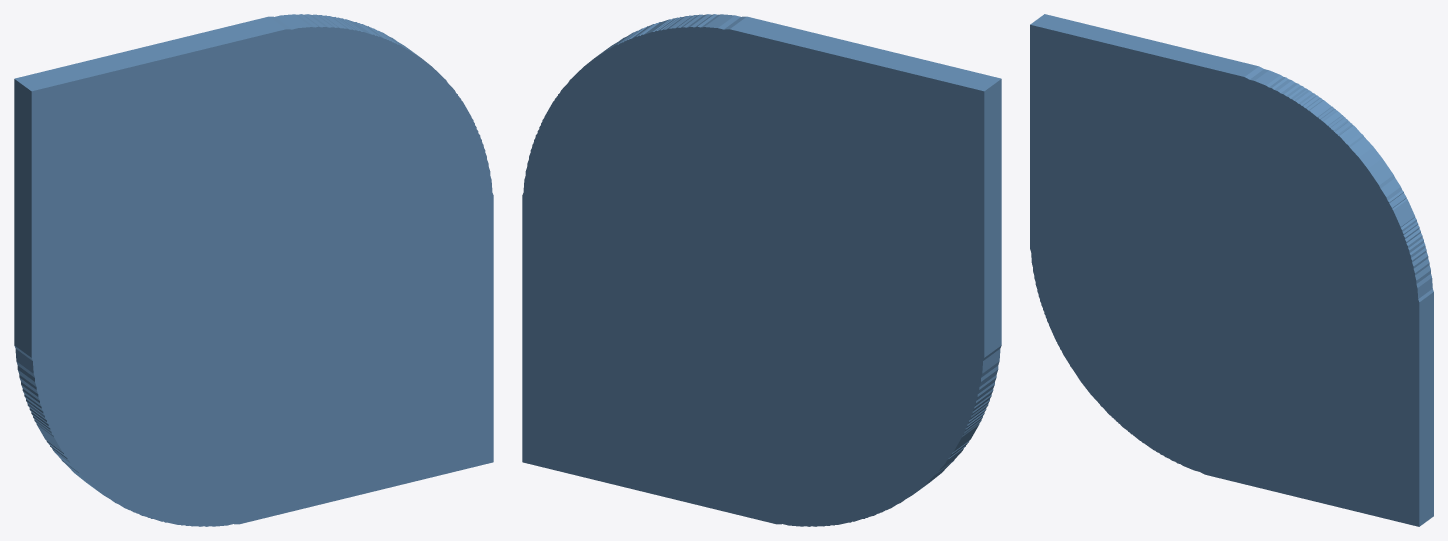
Rendered from bytecorp-leaf.glb.
The picture shows the model from 3 angles, left to right: view 1: azimuth 30°, elevation 25°; view 2: azimuth 150°, elevation 25°; view 3: azimuth 330°, elevation 25°; orthographic projection. The views are drawn at different scales.
Parts seen in each view (by area): view 1: geometry_0; view 2: geometry_0; view 3: geometry_0.
Part boxes in pixels (x1,y1,x2,y2): geometry_0: [14, 14, 493, 526]; geometry_0: [522, 14, 1001, 526]; geometry_0: [1030, 14, 1433, 526].
Bounding box in the file's own units: 2 × 2 × 0.13.
